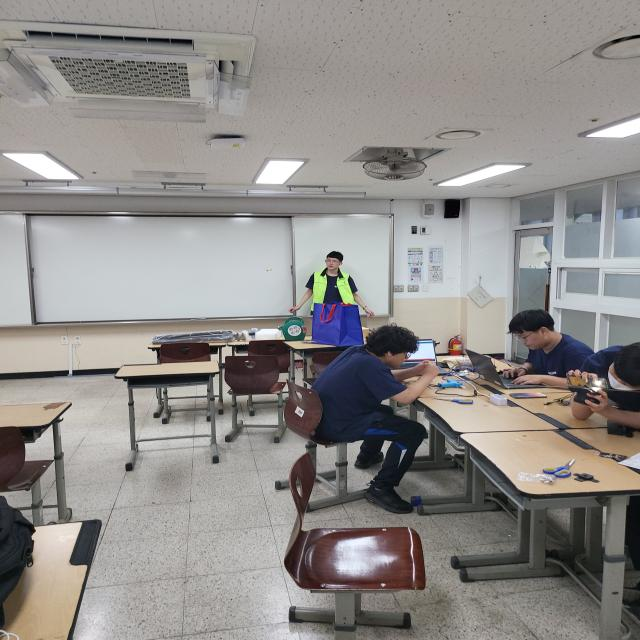weston_spy: (306, 266, 360, 308)
